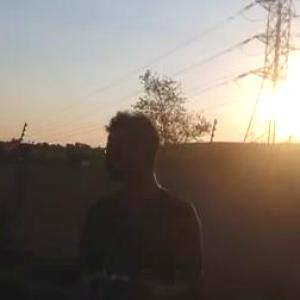follow: (58, 100, 202, 299)
